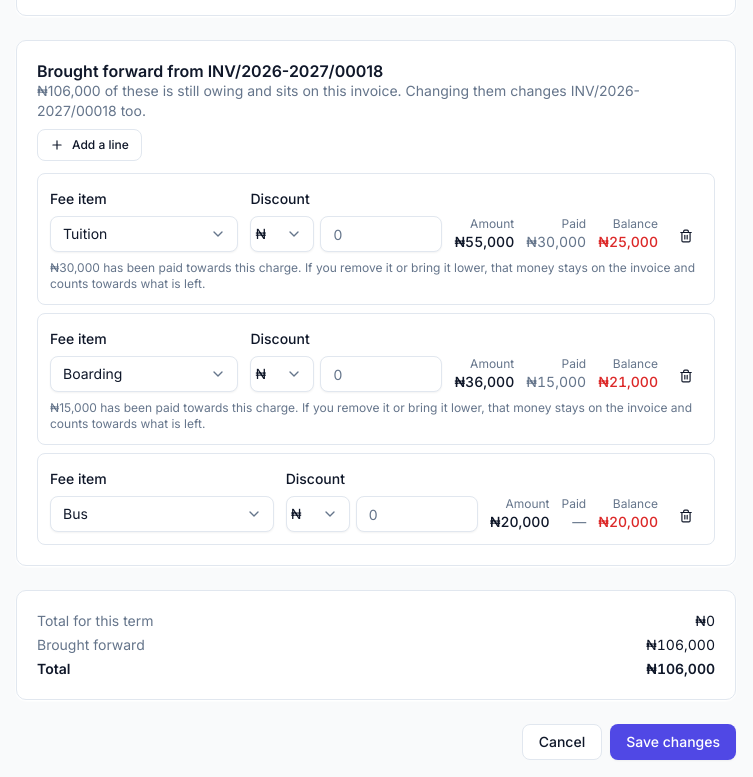
it: InvoiceEditPage brought-forward items › says why "Save changes" is greyed out, and stops saying it once the reason is given
(page scrolled)
Check: the heading "Brought forward from INV/2026-2027/00018" is shown, box [37,61,383,81]
Check: the button "Save changes" is enabled, box [610,724,736,760]
Click the 3rd button named "Remove line" at {"x": 686, "y": 516}, box [670,500,702,532]
(page scrolled)
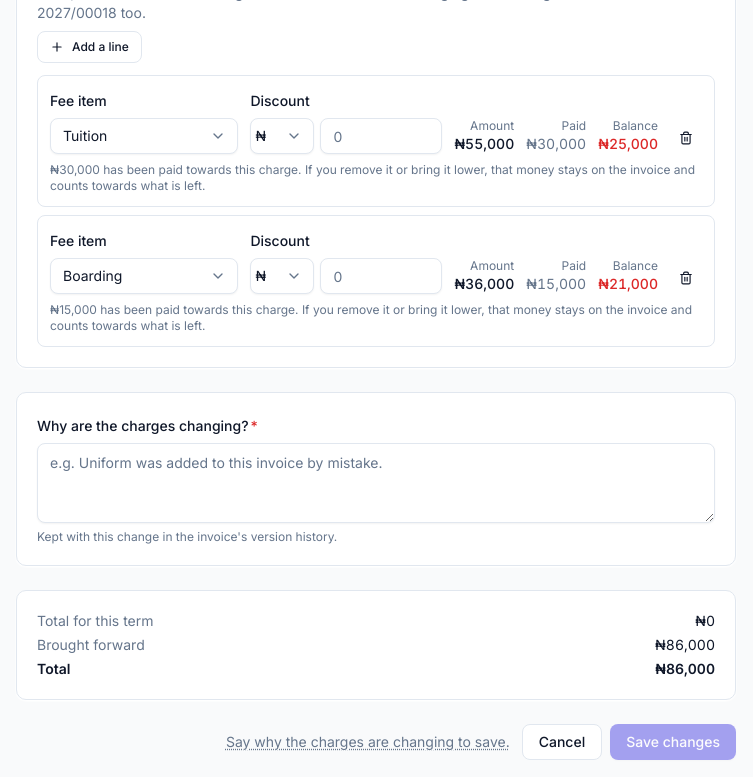
Check: the button "Save changes" is disabled, box [610,724,736,760]
Note: The hint takes the person to the box that is missing.
Click the button "Say why the charges are changing to save." at {"x": 368, "y": 742}, box [226,732,510,752]
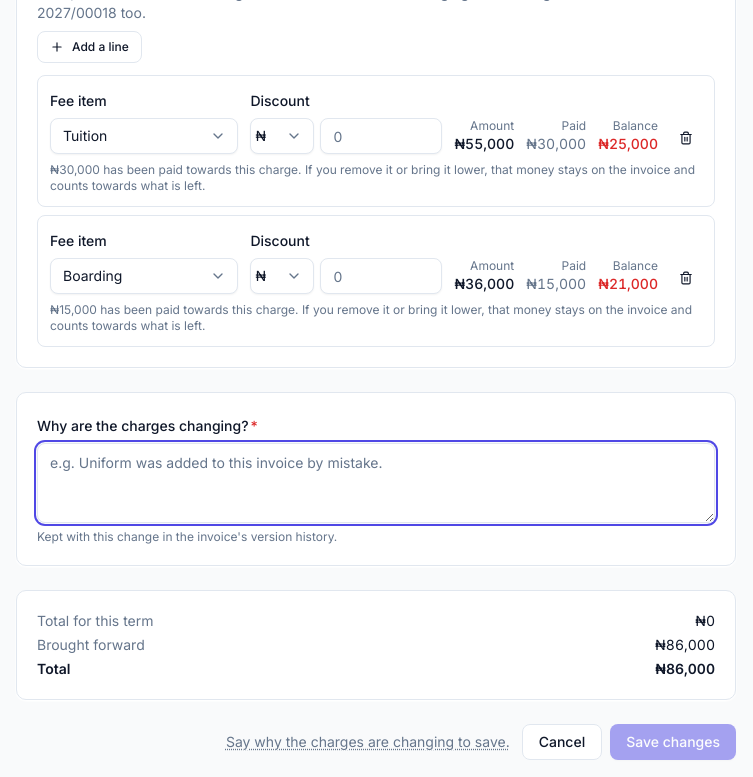
Type "Bus was a mistake" into the text box labelled "Why are the charges changing?*" at {"x": 376, "y": 483}, box [37,443,715,523]
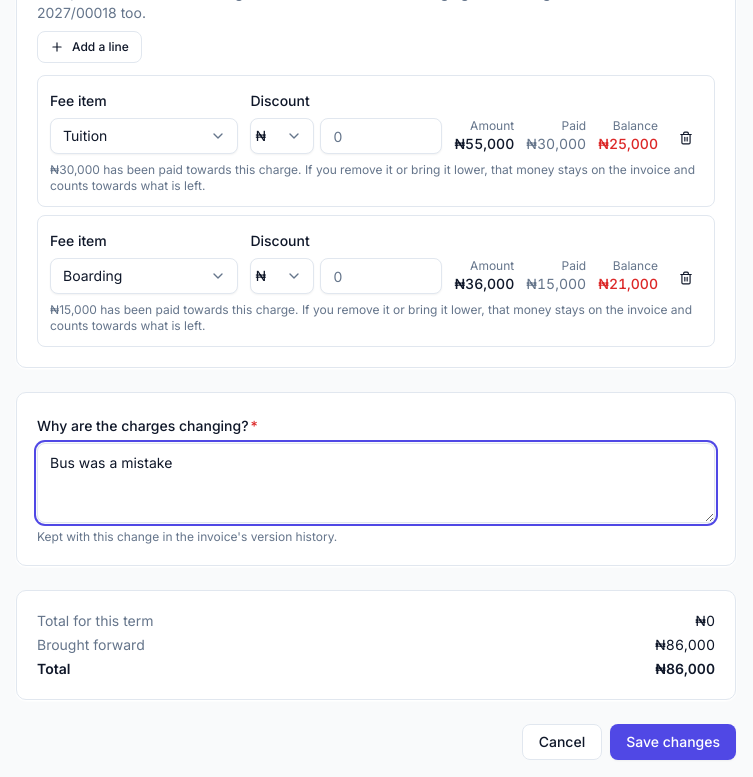
Check: the button "Save changes" is enabled, box [610,724,736,760]
Check: the button "Say why the charges are changing to save" is gone
